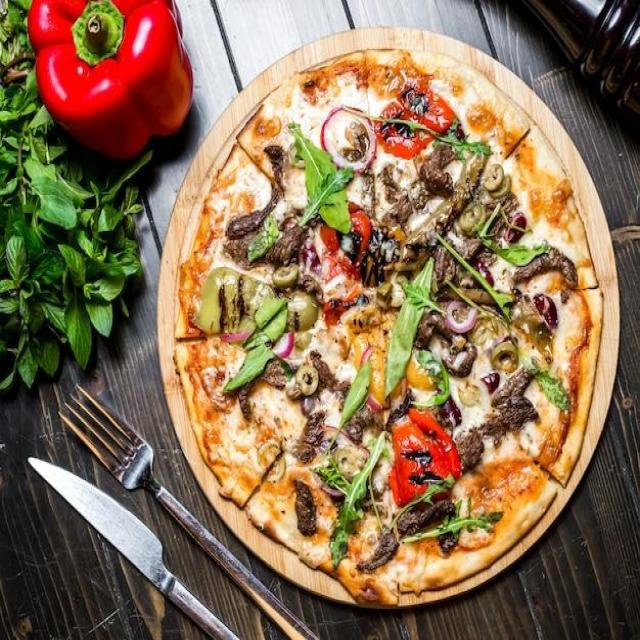basil: (0, 0, 145, 392), (385, 256, 450, 402), (329, 428, 395, 570), (340, 104, 495, 160), (286, 122, 352, 234), (434, 238, 512, 320), (378, 474, 462, 542), (222, 335, 294, 399), (326, 358, 374, 448), (479, 206, 548, 268), (398, 510, 504, 548), (519, 354, 572, 410), (311, 454, 351, 498), (249, 217, 284, 266), (255, 296, 288, 340)
olive: (285, 292, 319, 328), (443, 343, 477, 378), (489, 341, 520, 377), (486, 164, 513, 199), (417, 315, 447, 345), (336, 228, 362, 260), (532, 296, 558, 325), (294, 368, 324, 393), (371, 227, 390, 260), (272, 264, 296, 288), (457, 383, 480, 408), (428, 221, 445, 250), (381, 235, 399, 262), (291, 330, 314, 350), (359, 252, 375, 280), (505, 286, 523, 310), (371, 258, 385, 285), (435, 284, 450, 302), (405, 242, 427, 254)
pizza: (173, 46, 604, 609)
